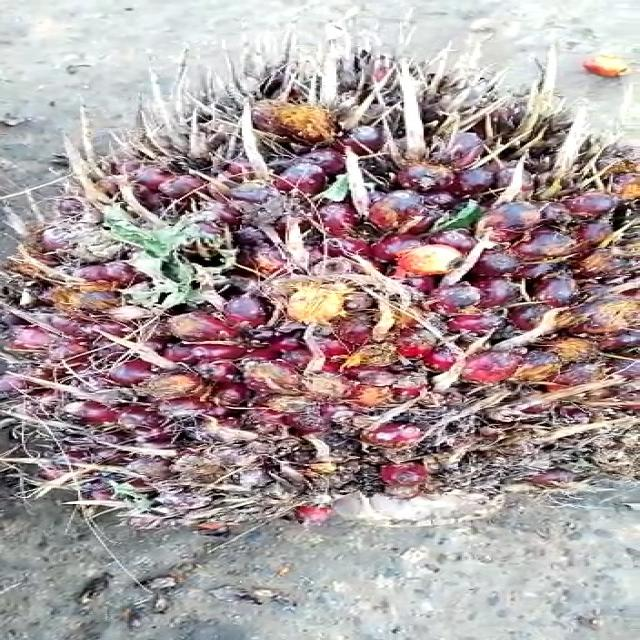palm oil: (0, 42, 640, 534)
